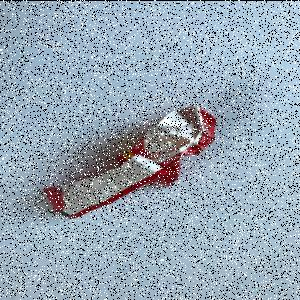Trash: (42, 106, 218, 220)
